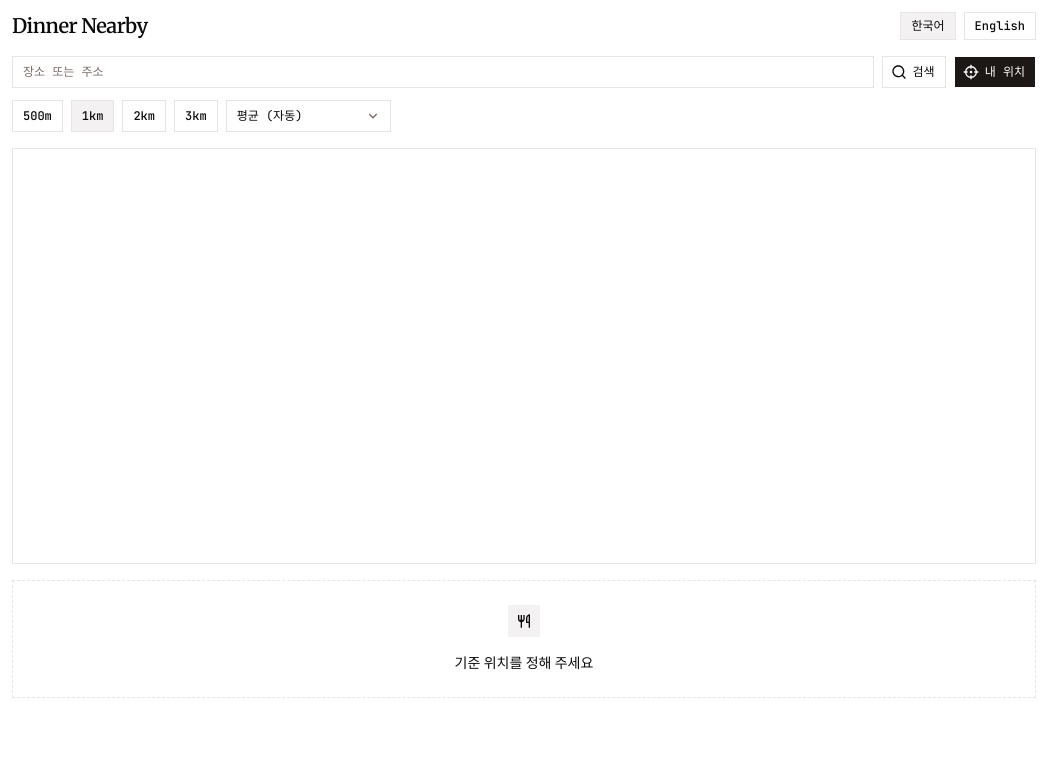
Scenario: 위치 권한을 거부하면 거부되었다는 안내와 다른 방법으로 계속할 수 있다는 안내를 보여 준다
Click the button "내 위치". click: (995, 72)
box: [954,56,1036,88]
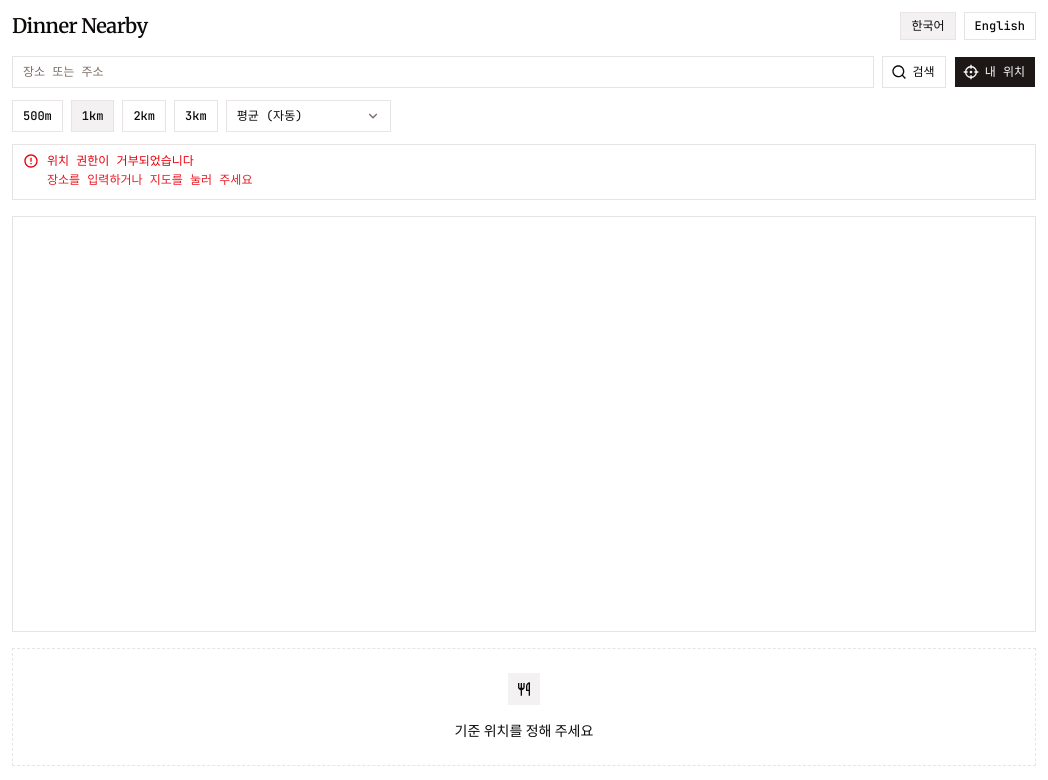
expect the message shows "위치 권한이 거부되었습니다": met, box [47,153,194,169]
expect the message shows "장소를 입력하거나 지도를 눌러 주세요": met, box [47,172,252,188]
